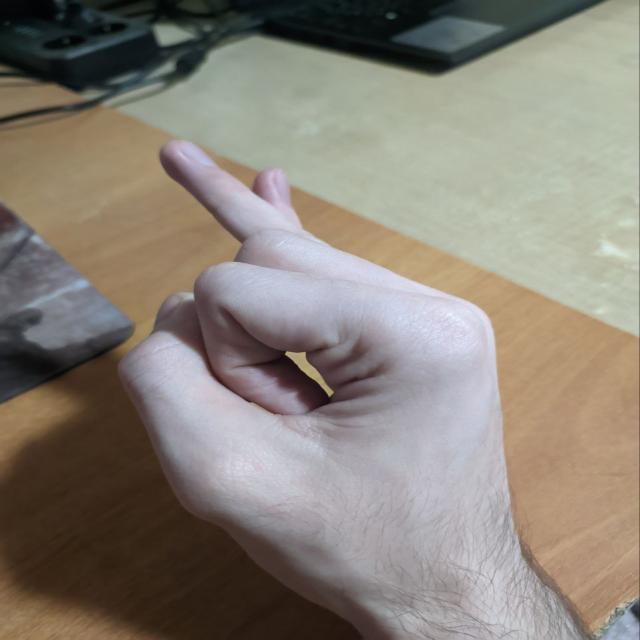i-: (69, 133, 543, 517)
